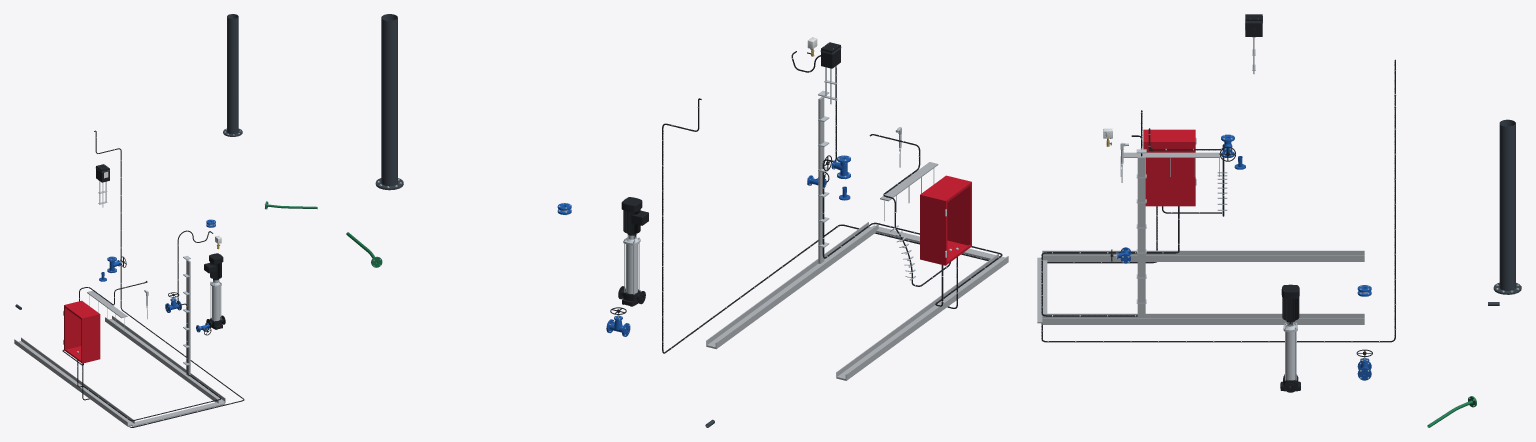
3 views of the same model, side by side, from view 1: azimuth 30°, elevation 25°; view 2: azimuth 150°, elevation 25°; view 3: azimuth 270°, elevation 25° (orthographic). The views are drawn at different scales.
Visible parts, largest first — view 1: cables / zinc, control_cabinet / control_cabinet_0.npz, bdv_vent / dark, mod_direct_drive_cable / black, wiring_pressure_switch_2 / black, pump_1 CAD solid 15, pump_1 CAD solid 2; view 2: cables / zinc, control_cabinet / control_cabinet_0.npz, bdv_vent / dark, mod_direct_drive_cable / black, wiring_pressure_switch_2 / black, pump_1 CAD solid 15, cables / steel; view 3: cables / zinc, control_cabinet / control_cabinet_0.npz, bdv_vent / dark, mod_direct_drive_cable / black, wiring_pressure_switch_2 / black, pump_1 CAD solid 15, cables / steel, pump_1 CAD solid 2, wiring_low_level_2 / black.
Part boxes in pixels (x1,y1,x2,y2): cables / zinc: (14,260,225,426); control_cabinet / control_cabinet_0.npz: (63,300,100,363); bdv_vent / dark: (223,14,242,136); mod_direct_drive_cable / black: (82,130,244,427); wiring_pressure_switch_2 / black: (77,230,221,420); pump_1 CAD solid 15: (204,253,223,279); pump_1 CAD solid 2: (212,286,220,320); cables / zinc: (706,96,1008,380); control_cabinet / control_cabinet_0.npz: (920,175,971,265); bdv_vent / dark: (375,14,403,190); mod_direct_drive_cable / black: (662,98,988,353); wiring_pressure_switch_2 / black: (791,51,1002,306); pump_1 CAD solid 15: (621,197,648,234); cables / steel: (818,90,934,280); cables / zinc: (1037,152,1364,324); control_cabinet / control_cabinet_0.npz: (1143,129,1196,206); bdv_vent / dark: (1493,119,1521,294); mod_direct_drive_cable / black: (1041,59,1395,342); wiring_pressure_switch_2 / black: (1041,110,1179,316); pump_1 CAD solid 15: (1281,284,1299,321); cables / steel: (1120,149,1227,303); pump_1 CAD solid 2: (1286,331,1295,380); wiring_low_level_2 / black: (1148,128,1224,216).
Size of the model in its own units: 5.62 by 3.75 by 4.91.
